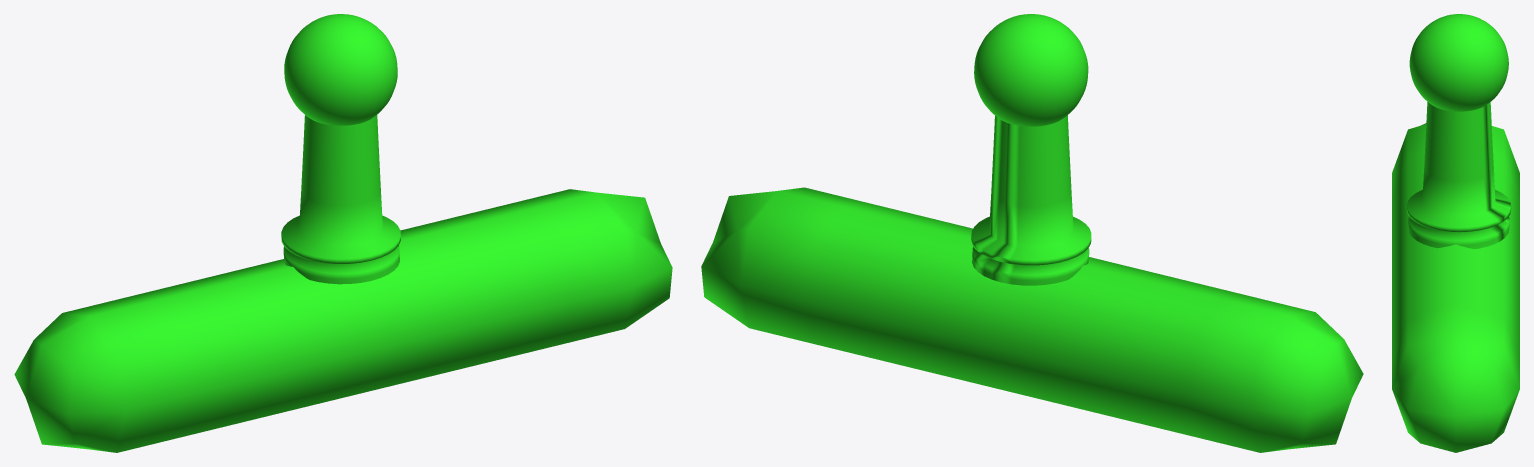
The model's file is greenBrush.dae.
3 renders of one model, left to right at view 1: azimuth 30°, elevation 25°; view 2: azimuth 150°, elevation 25°; view 3: azimuth 270°, elevation 25°, orthographic. The views are drawn at different scales.
Visible parts, largest first — view 1: Cube, Circle_001; view 2: Cube, Circle_001; view 3: Cube, Circle_001.
Part boxes in pixels (bbox=[...]): Cube: bbox=[14, 189, 672, 452]; Circle_001: bbox=[281, 14, 400, 284]; Cube: bbox=[701, 187, 1363, 452]; Circle_001: bbox=[971, 14, 1091, 285]; Cube: bbox=[1392, 123, 1519, 452]; Circle_001: bbox=[1407, 14, 1511, 249].
Bounding box in the file's own units: 12.61 × 2.52 × 6.97.
